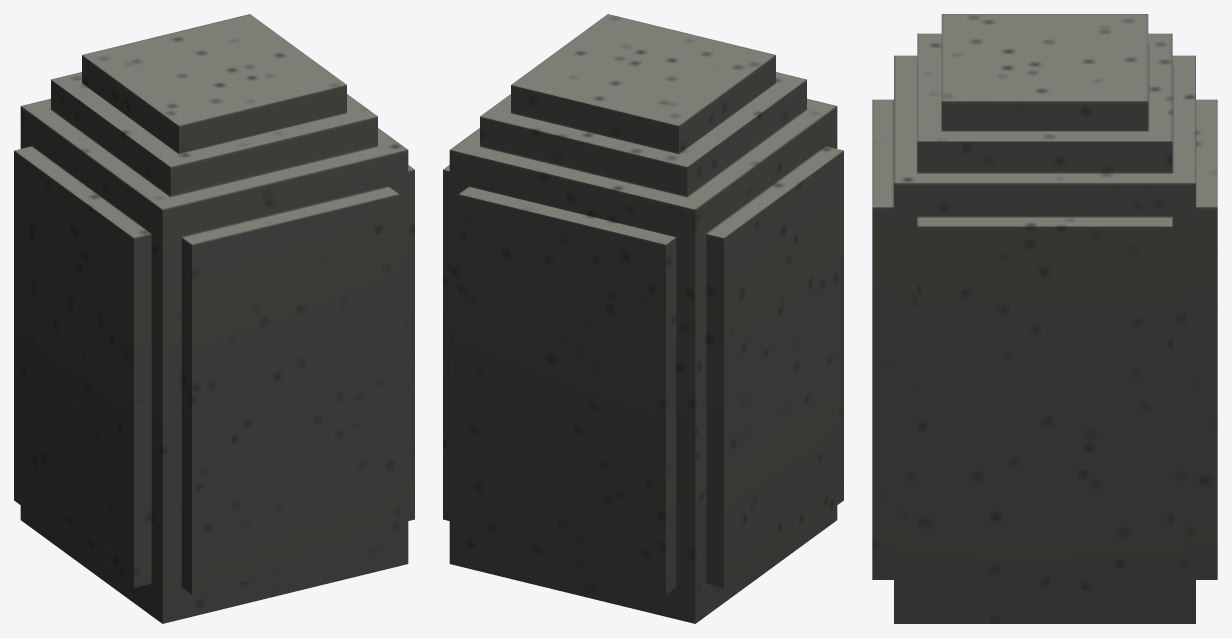
File: Batu 3.fbx
The picture shows the model from 3 angles, left to right: view 1: azimuth 30°, elevation 25°; view 2: azimuth 150°, elevation 25°; view 3: azimuth 270°, elevation 25°; orthographic projection. The views are drawn at different scales.
Visible parts, largest first — view 1: Batu 3; view 2: Batu 3; view 3: Batu 3.
Boxes of the visible parts, box(x1,y1,x2,y2) form: Batu 3: box(14, 14, 414, 623); Batu 3: box(443, 14, 843, 623); Batu 3: box(872, 14, 1217, 623).
Bounding box in the file's own units: 102 × 163 × 102.
1 material, 1 textured.
